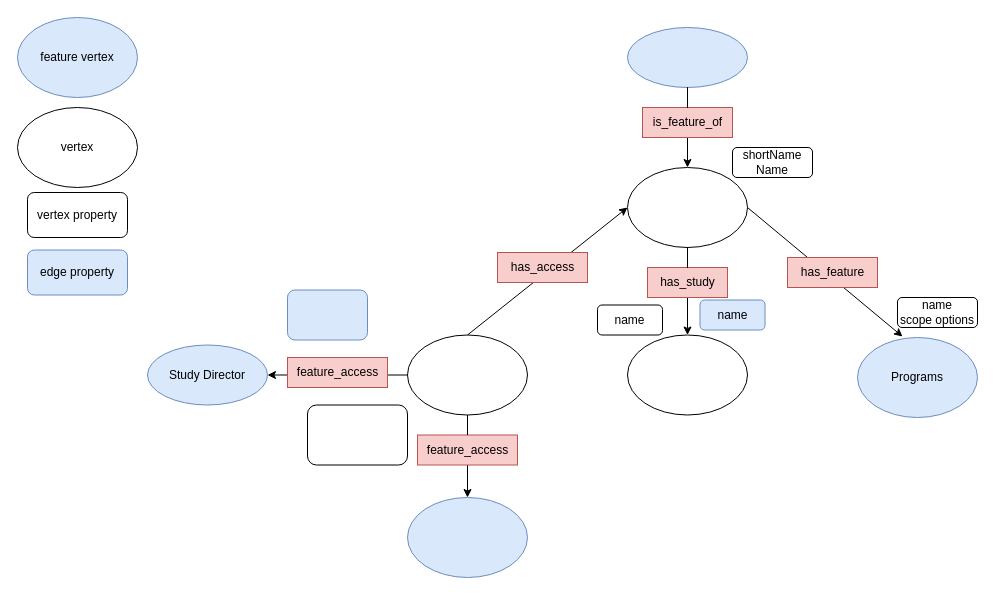
The diagram is 995 pixels wide and 595 high, and some of its shapes have lost their labels. Here are the shapes that lost their labels. From the top down, the centre of each, then its label:
point (687, 57): User Management
point (687, 207): Application
point (327, 314): name scope onApp
point (467, 374): User
point (687, 374): Study
point (357, 434): email name createdAt modifiedAt
point (467, 537): internal_user
